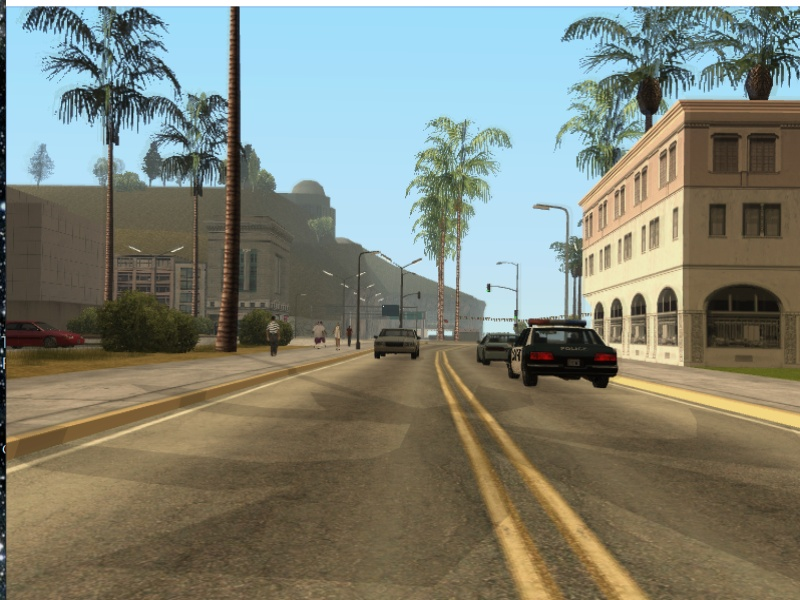person: (266, 319, 282, 357), (307, 322, 326, 349), (331, 322, 342, 350), (344, 324, 353, 346)
pole: (561, 209, 572, 315), (355, 253, 364, 348), (399, 268, 406, 319)
tree: (215, 11, 246, 352), (103, 137, 114, 311), (453, 217, 464, 340), (437, 236, 444, 341)
vehicle: (506, 320, 623, 393), (6, 319, 83, 350), (374, 326, 424, 363), (476, 329, 518, 362)
